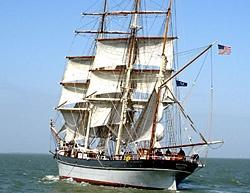fanchuan: (48, 1, 226, 185)
